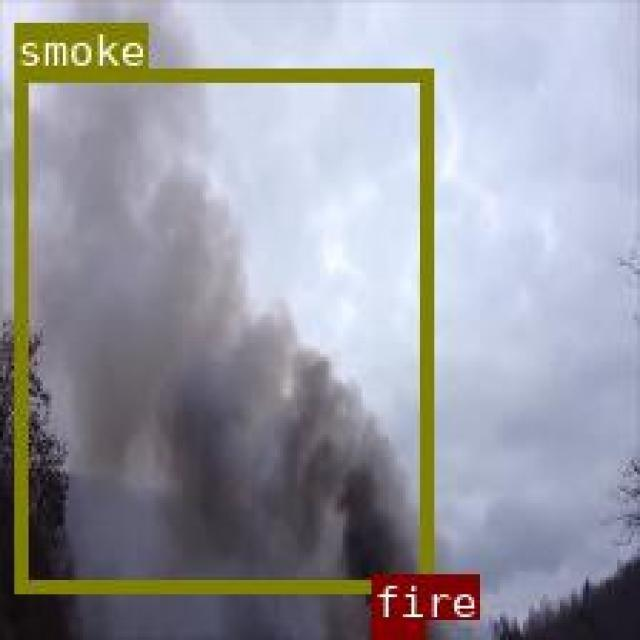fire: (371, 618, 420, 635)
smoke: (13, 66, 431, 591)
